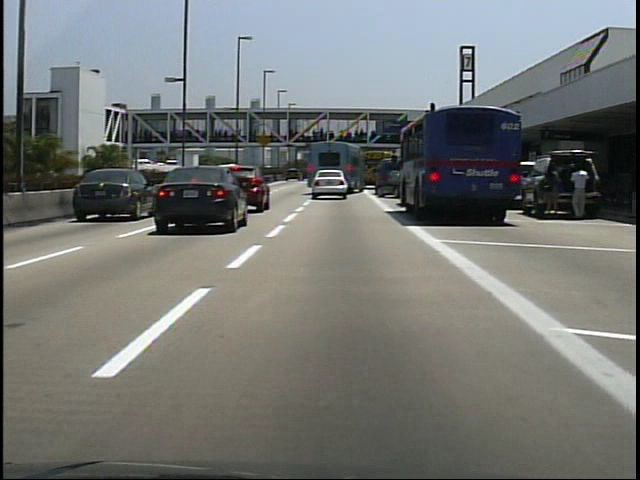person: (565, 162, 591, 225), (536, 160, 562, 223)
